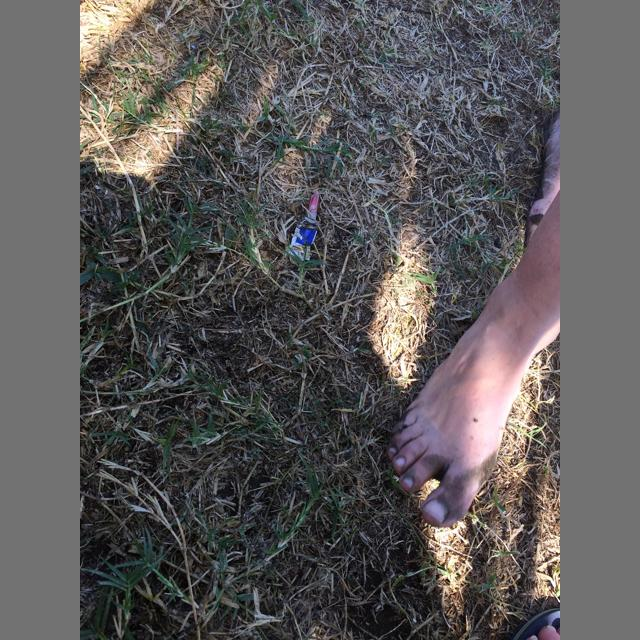litter: (286, 190, 319, 262)
